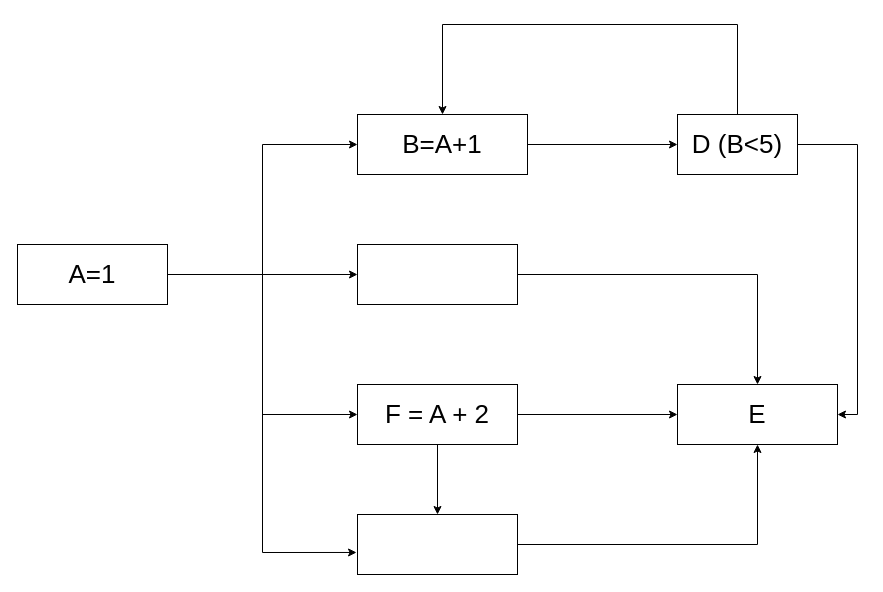
The diagram is 883 pixels wide and 592 high, and some of its shapes have lost their labels. The box of each missing label's shape, as (x1, y1, x2, y2) in pixels:
C+10: (356, 244, 518, 304)
G = (A+1)*F: (356, 514, 518, 574)
